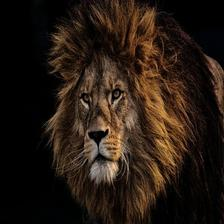lions: (13, 4, 224, 217)
